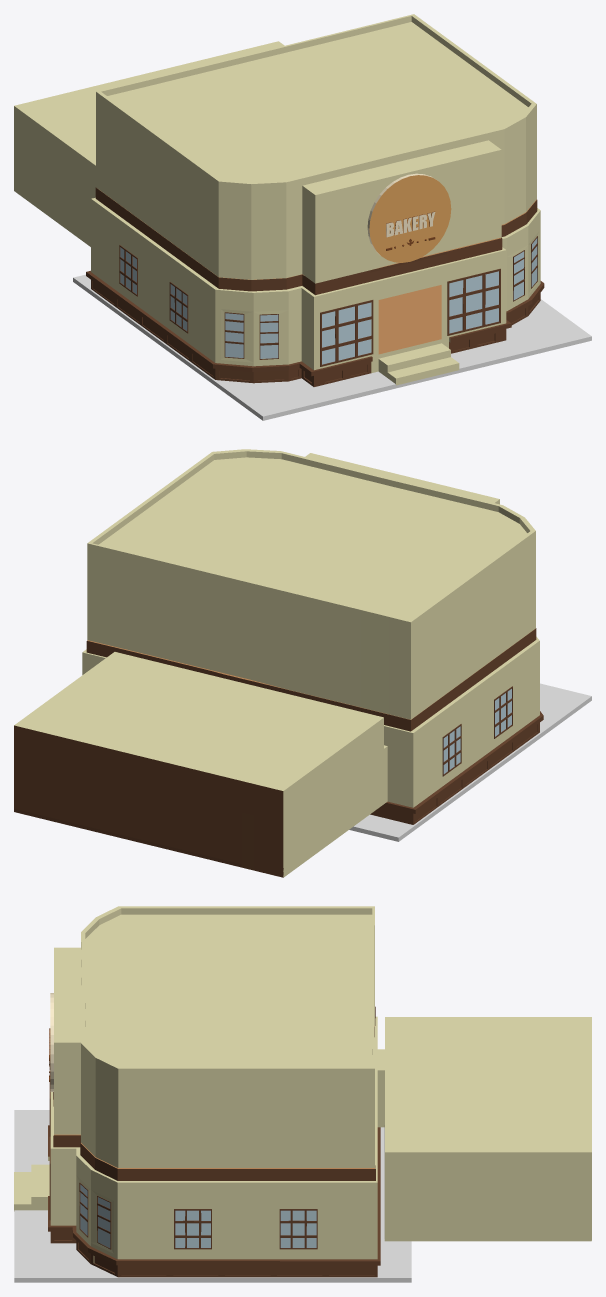
The model's file is Bäckerei.fbx.
3 views of the same model, one above another, from view 1: azimuth 30°, elevation 25°; view 2: azimuth 150°, elevation 25°; view 3: azimuth 270°, elevation 25° (orthographic). The views are drawn at different scales.
Visible parts, largest first — view 1: Cube.002, Cube, Boden; view 2: Cube.002, Cube; view 3: Cube.002, Cube.
Part boxes in pixels (box(x1,y1,x2,y2)): Cube.002: box(14, 14, 544, 386); Cube: box(73, 274, 591, 420); Boden: box(378, 285, 441, 352); Cube.002: box(14, 449, 543, 877); Cube: box(349, 683, 591, 841); Cube.002: box(14, 906, 591, 1277); Cube: box(14, 1110, 411, 1282).
Bounding box in the file's own units: 813 × 471 × 1169.
